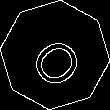O_NE: (22, 22, 88, 88)
